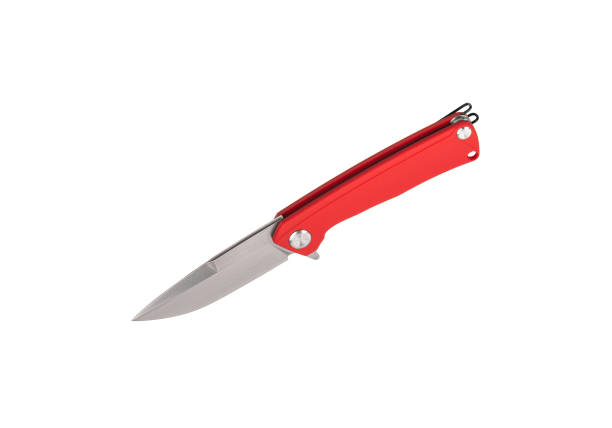knife: (128, 102, 482, 324)
